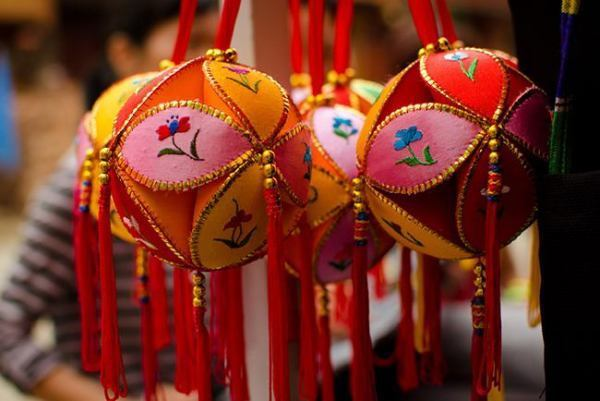xiuqiu: (358, 48, 569, 258), (108, 57, 312, 271)
